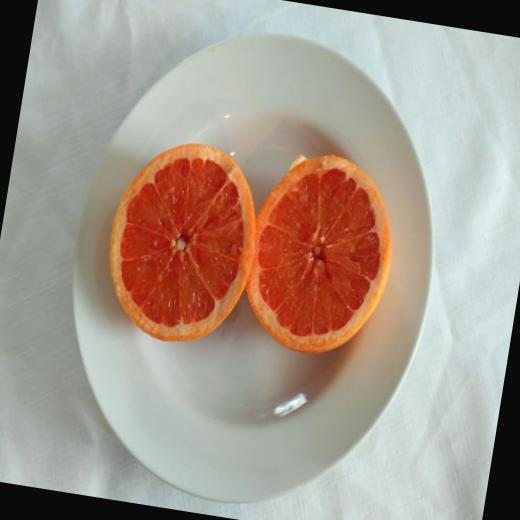Grape: (96, 132, 270, 352), (237, 142, 406, 364)
